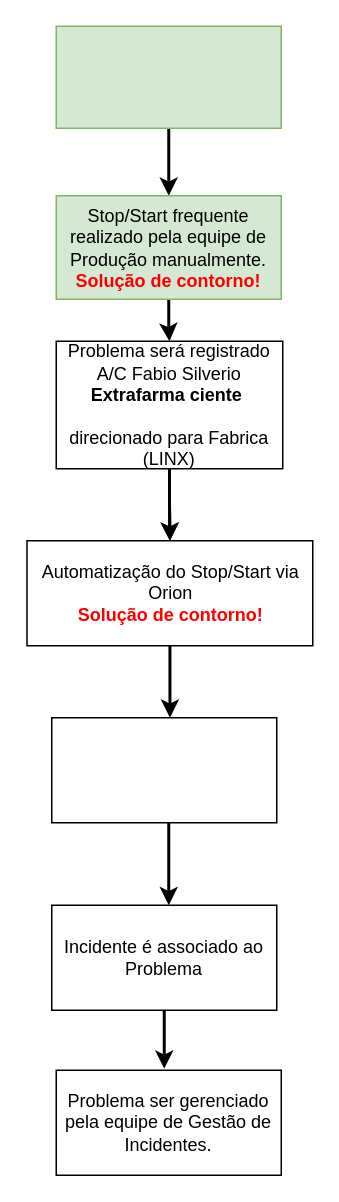
Image size: 339x1202. Some labels were removed from this diagram. Here are the shapes that lost their labels. From the top down, the centre of each, then its label:
At pixel 168 76: "LINX - PDV P2K Indisponível Impacto nas Vendas".
At pixel 163 769: "ORION registra o Incidente Automaticamente".
